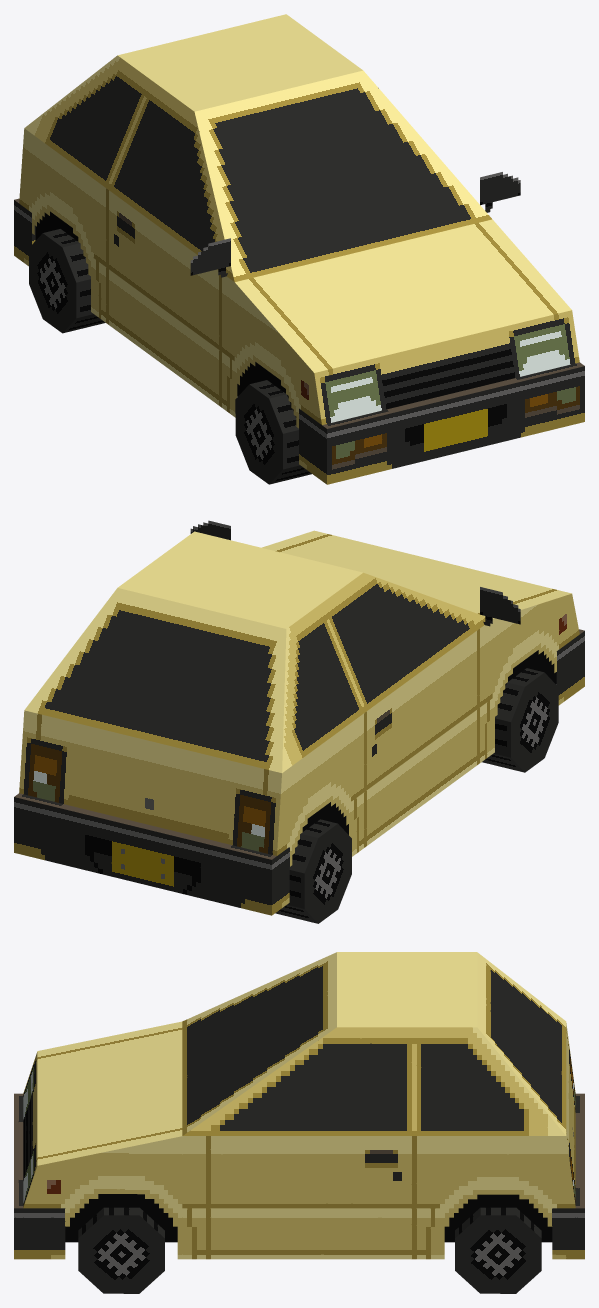
File: DaihatsuMira.glb
3 views of the same model, one above another, from view 1: azimuth 30°, elevation 25°; view 2: azimuth 150°, elevation 25°; view 3: azimuth 270°, elevation 25° (orthographic). The views are drawn at different scales.
Parts seen in each view (by area): view 1: car, tire2, tire4, bottom; view 2: car, tire2, tire4, bottom; view 3: car, tire1, tire3, bottom.
Part boxes in pixels (x1=…): car: x1=14, y1=14, x2=584, y2=484; tire2: x1=235, y1=380, x2=311, y2=484; tire4: x1=29, y1=229, x2=105, y2=333; bottom: x1=35, y1=211, x2=296, y2=417; car: x1=14, y1=520, x2=584, y2=915; tire2: x1=482, y1=668, x2=558, y2=772; tire4: x1=275, y1=819, x2=351, y2=923; bottom: x1=300, y1=650, x2=556, y2=834; car: x1=14, y1=952, x2=584, y2=1259; tire1: x1=78, y1=1207, x2=164, y2=1293; tire3: x1=455, y1=1207, x2=541, y2=1293; bottom: x1=65, y1=1194, x2=552, y2=1242.
Bounding box in the file's own units: 1.6 × 1.14 × 2.44.
Materials: 1 (1 with a texture image).
